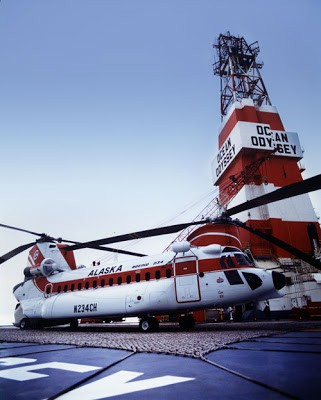chinook: (3, 224, 297, 335)
